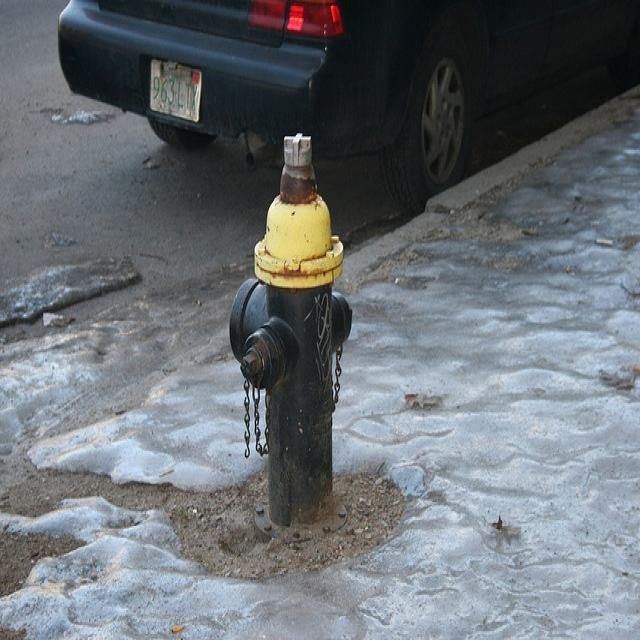car: (54, 0, 637, 211)
fire_hydrant: (224, 127, 356, 544)
